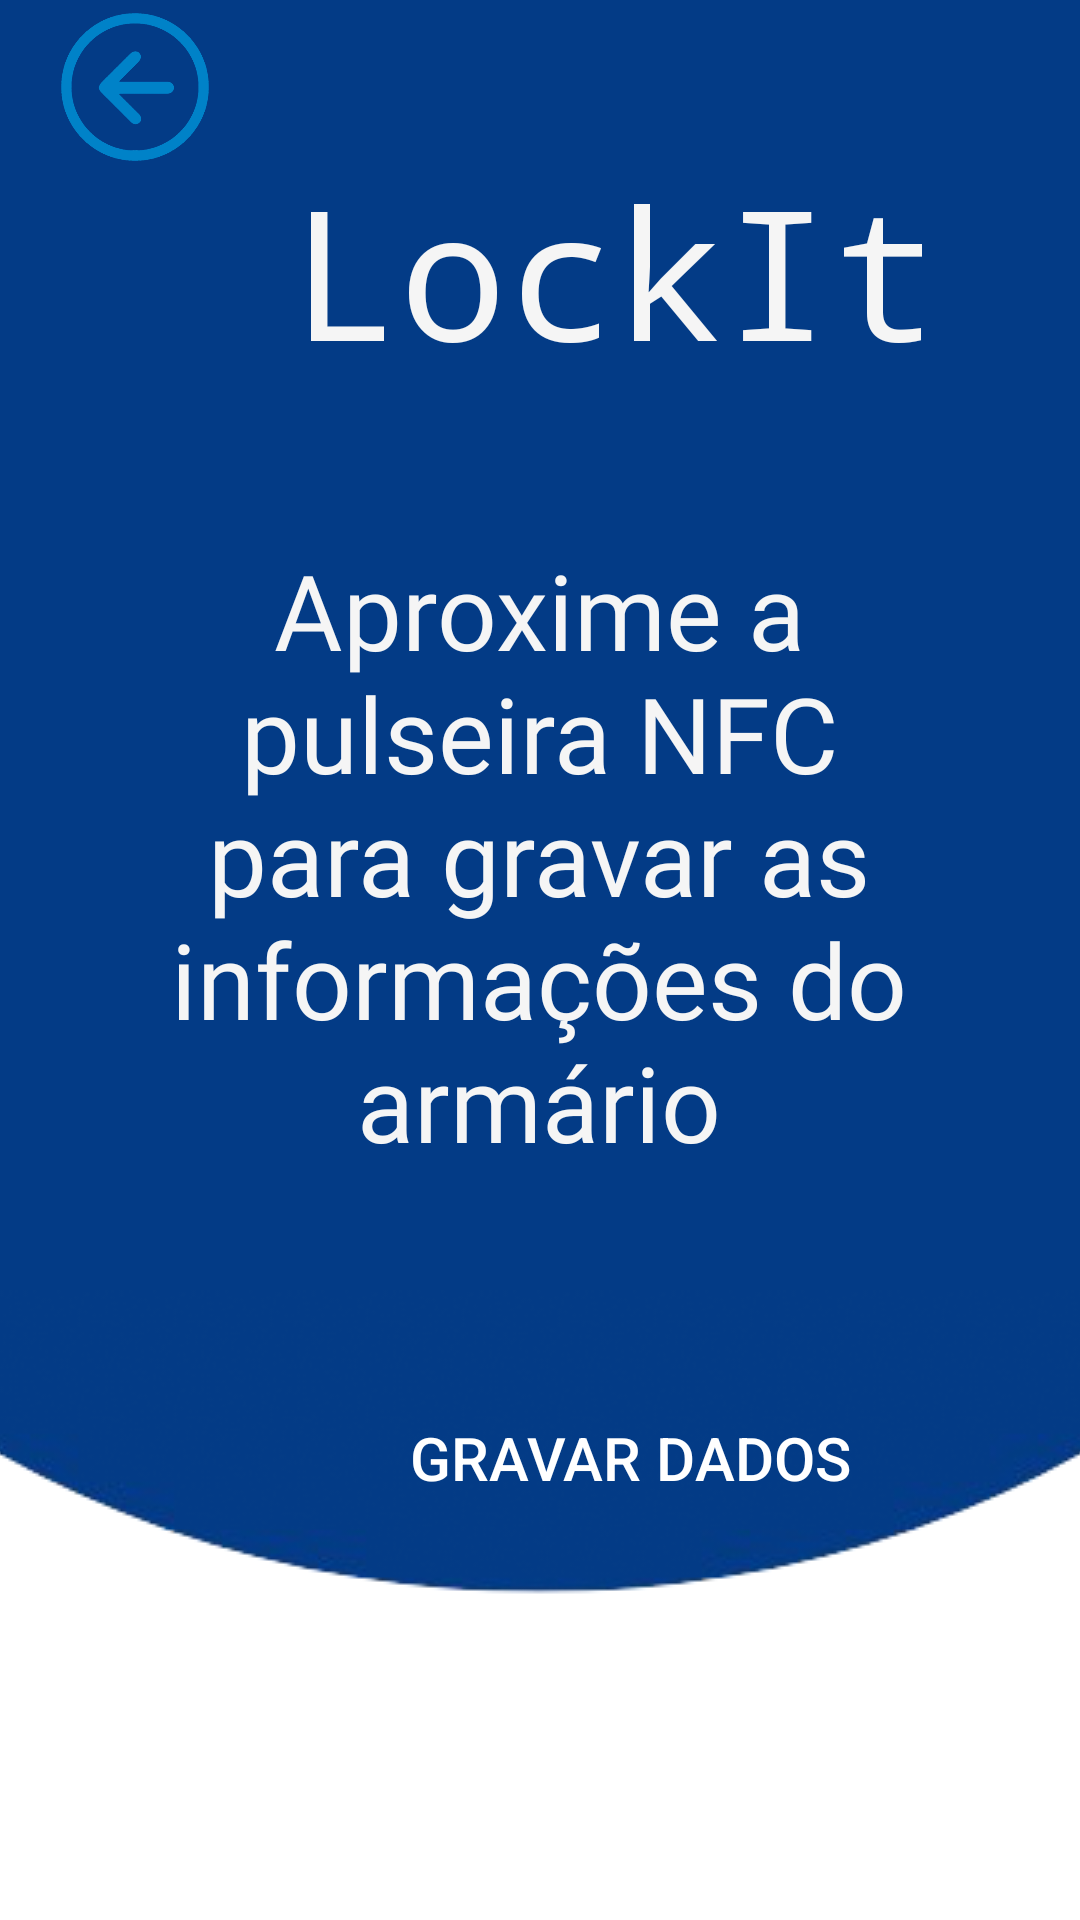

Named icons in this screenshot (1080px x 1920px) and their bounding boxes, rect(x1, y1, x2, y2):
seta voltar: rect(61, 13, 209, 161)
